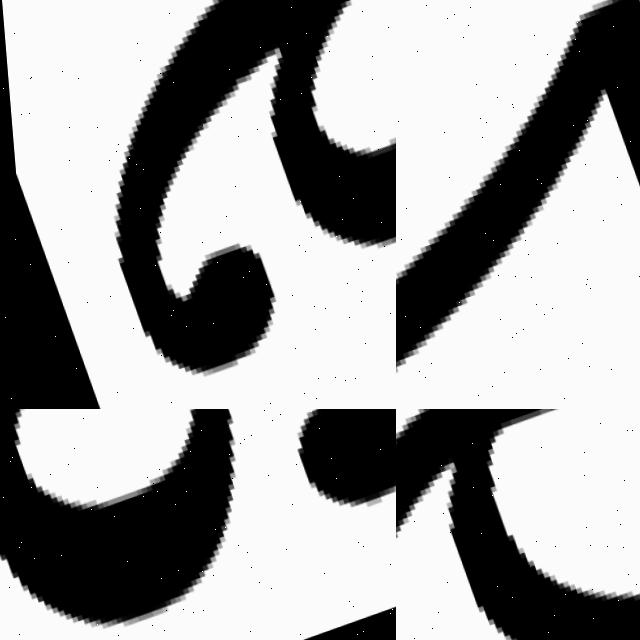7: (396, 0, 640, 409)
9: (12, 0, 396, 404), (396, 409, 640, 640)
A: (0, 409, 396, 640)
